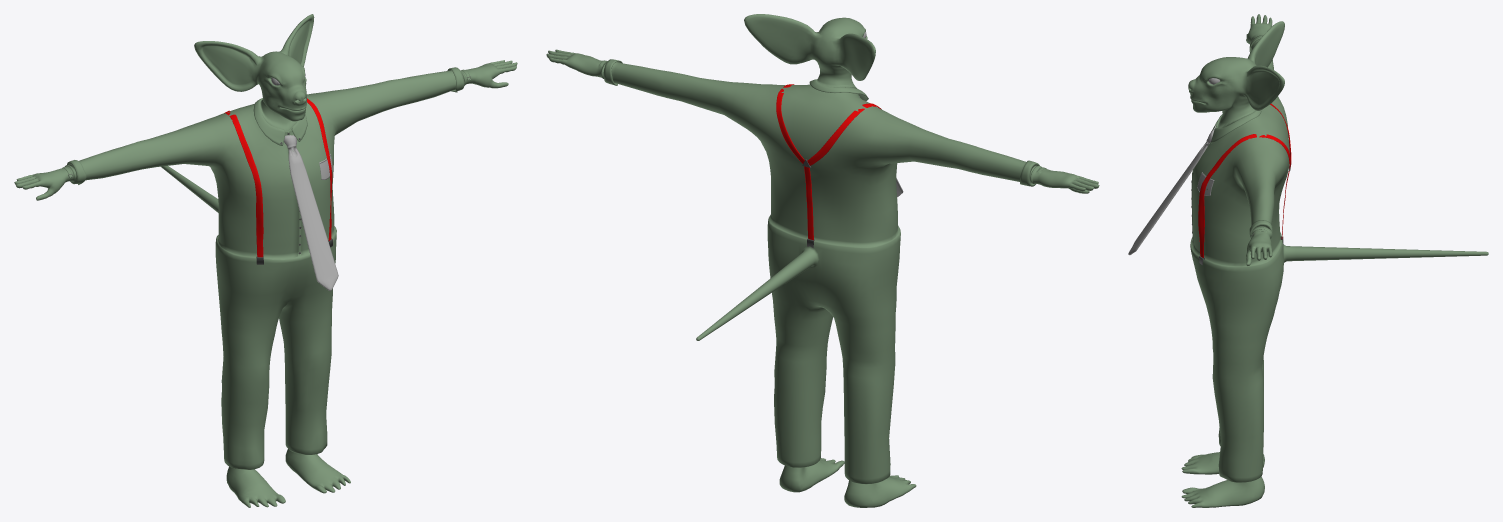
The model's file is investigador_uv_01.fbx.
3 renders of one model, left to right at view 1: azimuth 30°, elevation 25°; view 2: azimuth 150°, elevation 25°; view 3: azimuth 270°, elevation 25°, orthographic. The views are drawn at different scales.
Visible parts, largest first — view 1: body, tie, polySurface79; view 2: body; view 3: body, tie, polySurface78.
Boxes of the visible parts, x1,y1,x2,y2 form: body: (14,14,517,507); tie: (284,135,338,290); polySurface79: (224,110,263,257); body: (546,14,1099,507); body: (1181,14,1488,507); tie: (1128,125,1216,255); polySurface78: (1198,134,1291,257).
Size of the model in its own units: 2.51 by 2.09 by 1.57.
